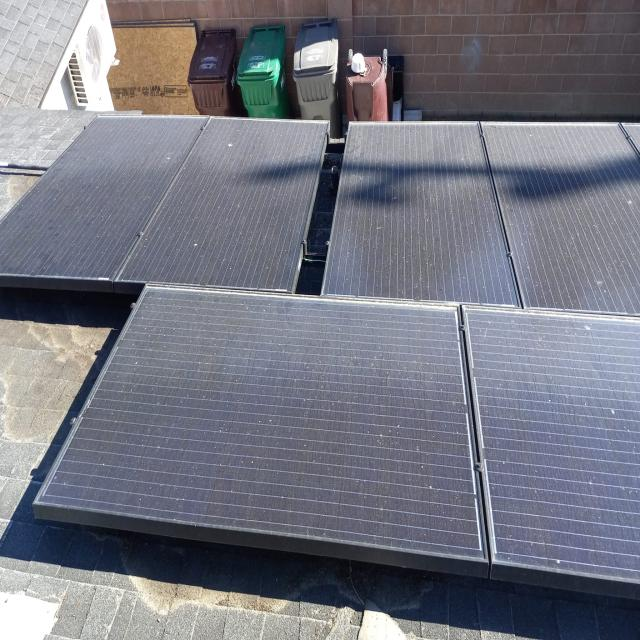dust-solar-panel: (33, 282, 640, 587), (0, 112, 640, 319)
